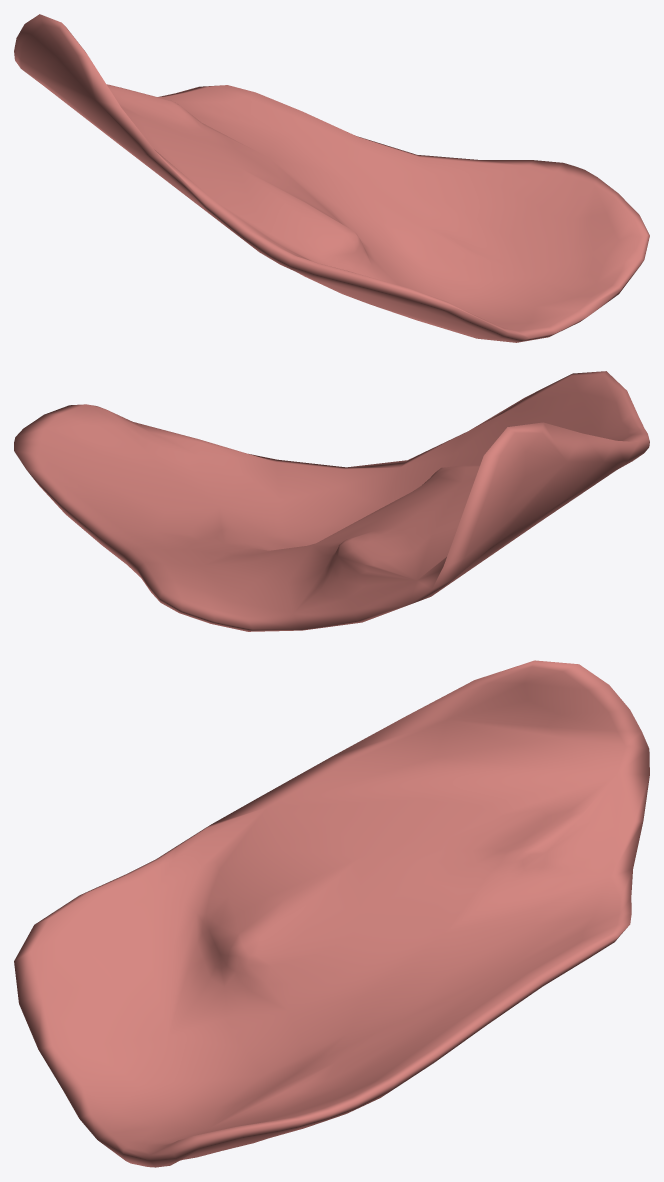
3 renders of one model, top to bottom at view 1: azimuth 30°, elevation 25°; view 2: azimuth 150°, elevation 25°; view 3: azimuth 270°, elevation 25°, orthographic. The views are drawn at different scales.
Visible parts, largest first — view 1: ZA_9df5fdd0186b4059; view 2: ZA_9df5fdd0186b4059; view 3: ZA_9df5fdd0186b4059.
Boxes of the visible parts, <box> form: ZA_9df5fdd0186b4059: <box>14,14,649,342</box>; ZA_9df5fdd0186b4059: <box>14,371,649,631</box>; ZA_9df5fdd0186b4059: <box>14,660,649,1167</box>.
Size of the model in its own units: 0.016 by 0.00888 by 0.0168.
